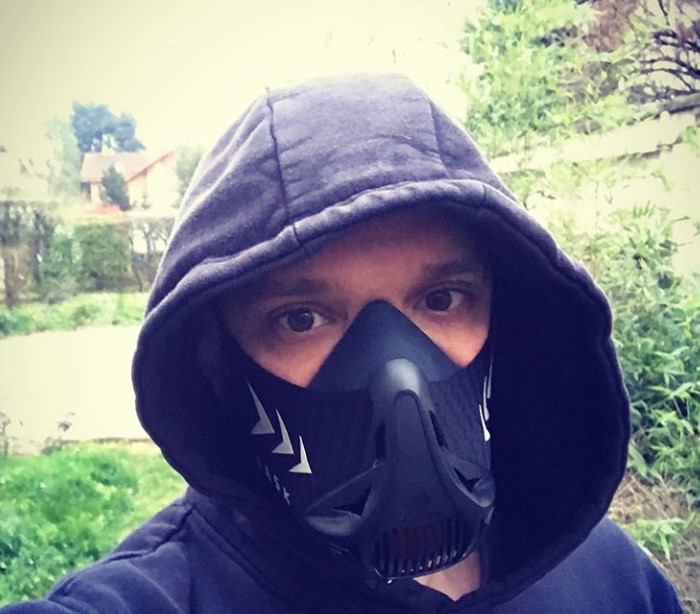face_with_mask: (173, 113, 548, 588)
